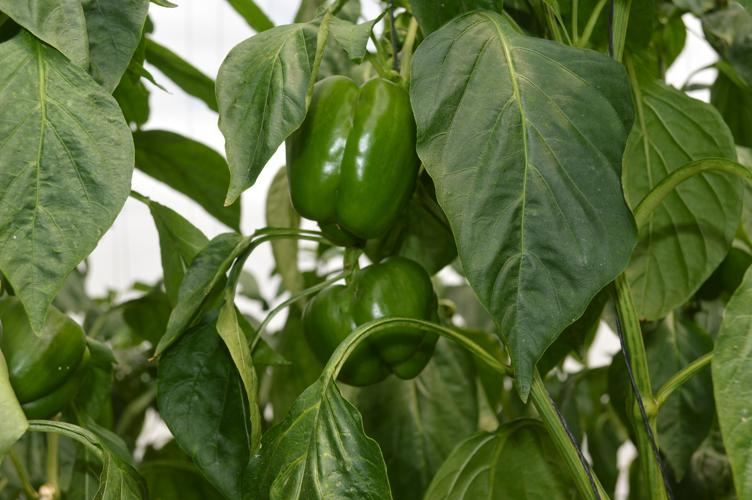BellPepper: (282, 77, 419, 252), (300, 257, 441, 386), (4, 296, 93, 416)
